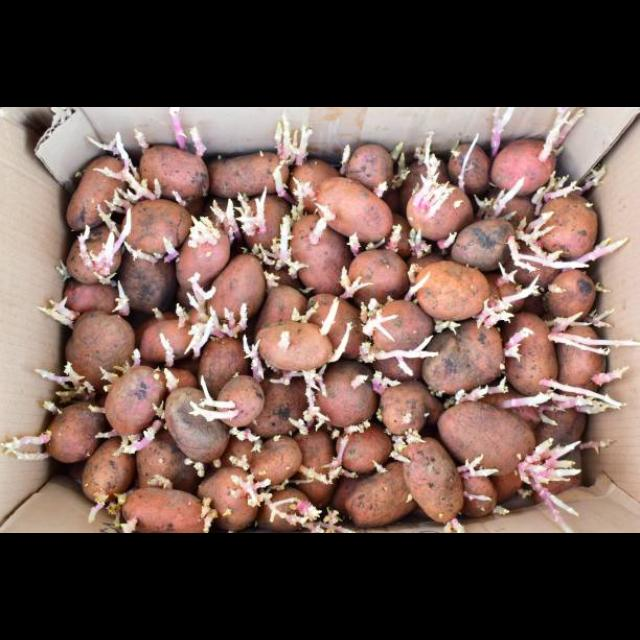Sprouted potato: (440, 402, 546, 500), (392, 426, 474, 534), (412, 321, 512, 403), (62, 305, 138, 399), (100, 356, 172, 452), (500, 301, 560, 414), (54, 154, 140, 232), (532, 174, 606, 262), (485, 117, 567, 195), (554, 320, 622, 414), (400, 176, 480, 252), (338, 230, 412, 306), (198, 250, 270, 328), (406, 258, 496, 320), (278, 213, 344, 297), (209, 142, 295, 206), (78, 433, 142, 519), (338, 460, 416, 530), (188, 464, 266, 534), (34, 403, 122, 465), (184, 328, 262, 397), (115, 198, 192, 266), (136, 138, 220, 200), (244, 371, 320, 435), (312, 367, 382, 435), (372, 373, 440, 443), (258, 316, 339, 374), (175, 214, 235, 290), (546, 260, 608, 330), (360, 302, 432, 362), (238, 432, 308, 490), (342, 136, 406, 198), (446, 215, 514, 273), (59, 229, 132, 283), (56, 274, 136, 320), (207, 371, 265, 433), (143, 313, 205, 362), (334, 421, 388, 472)
